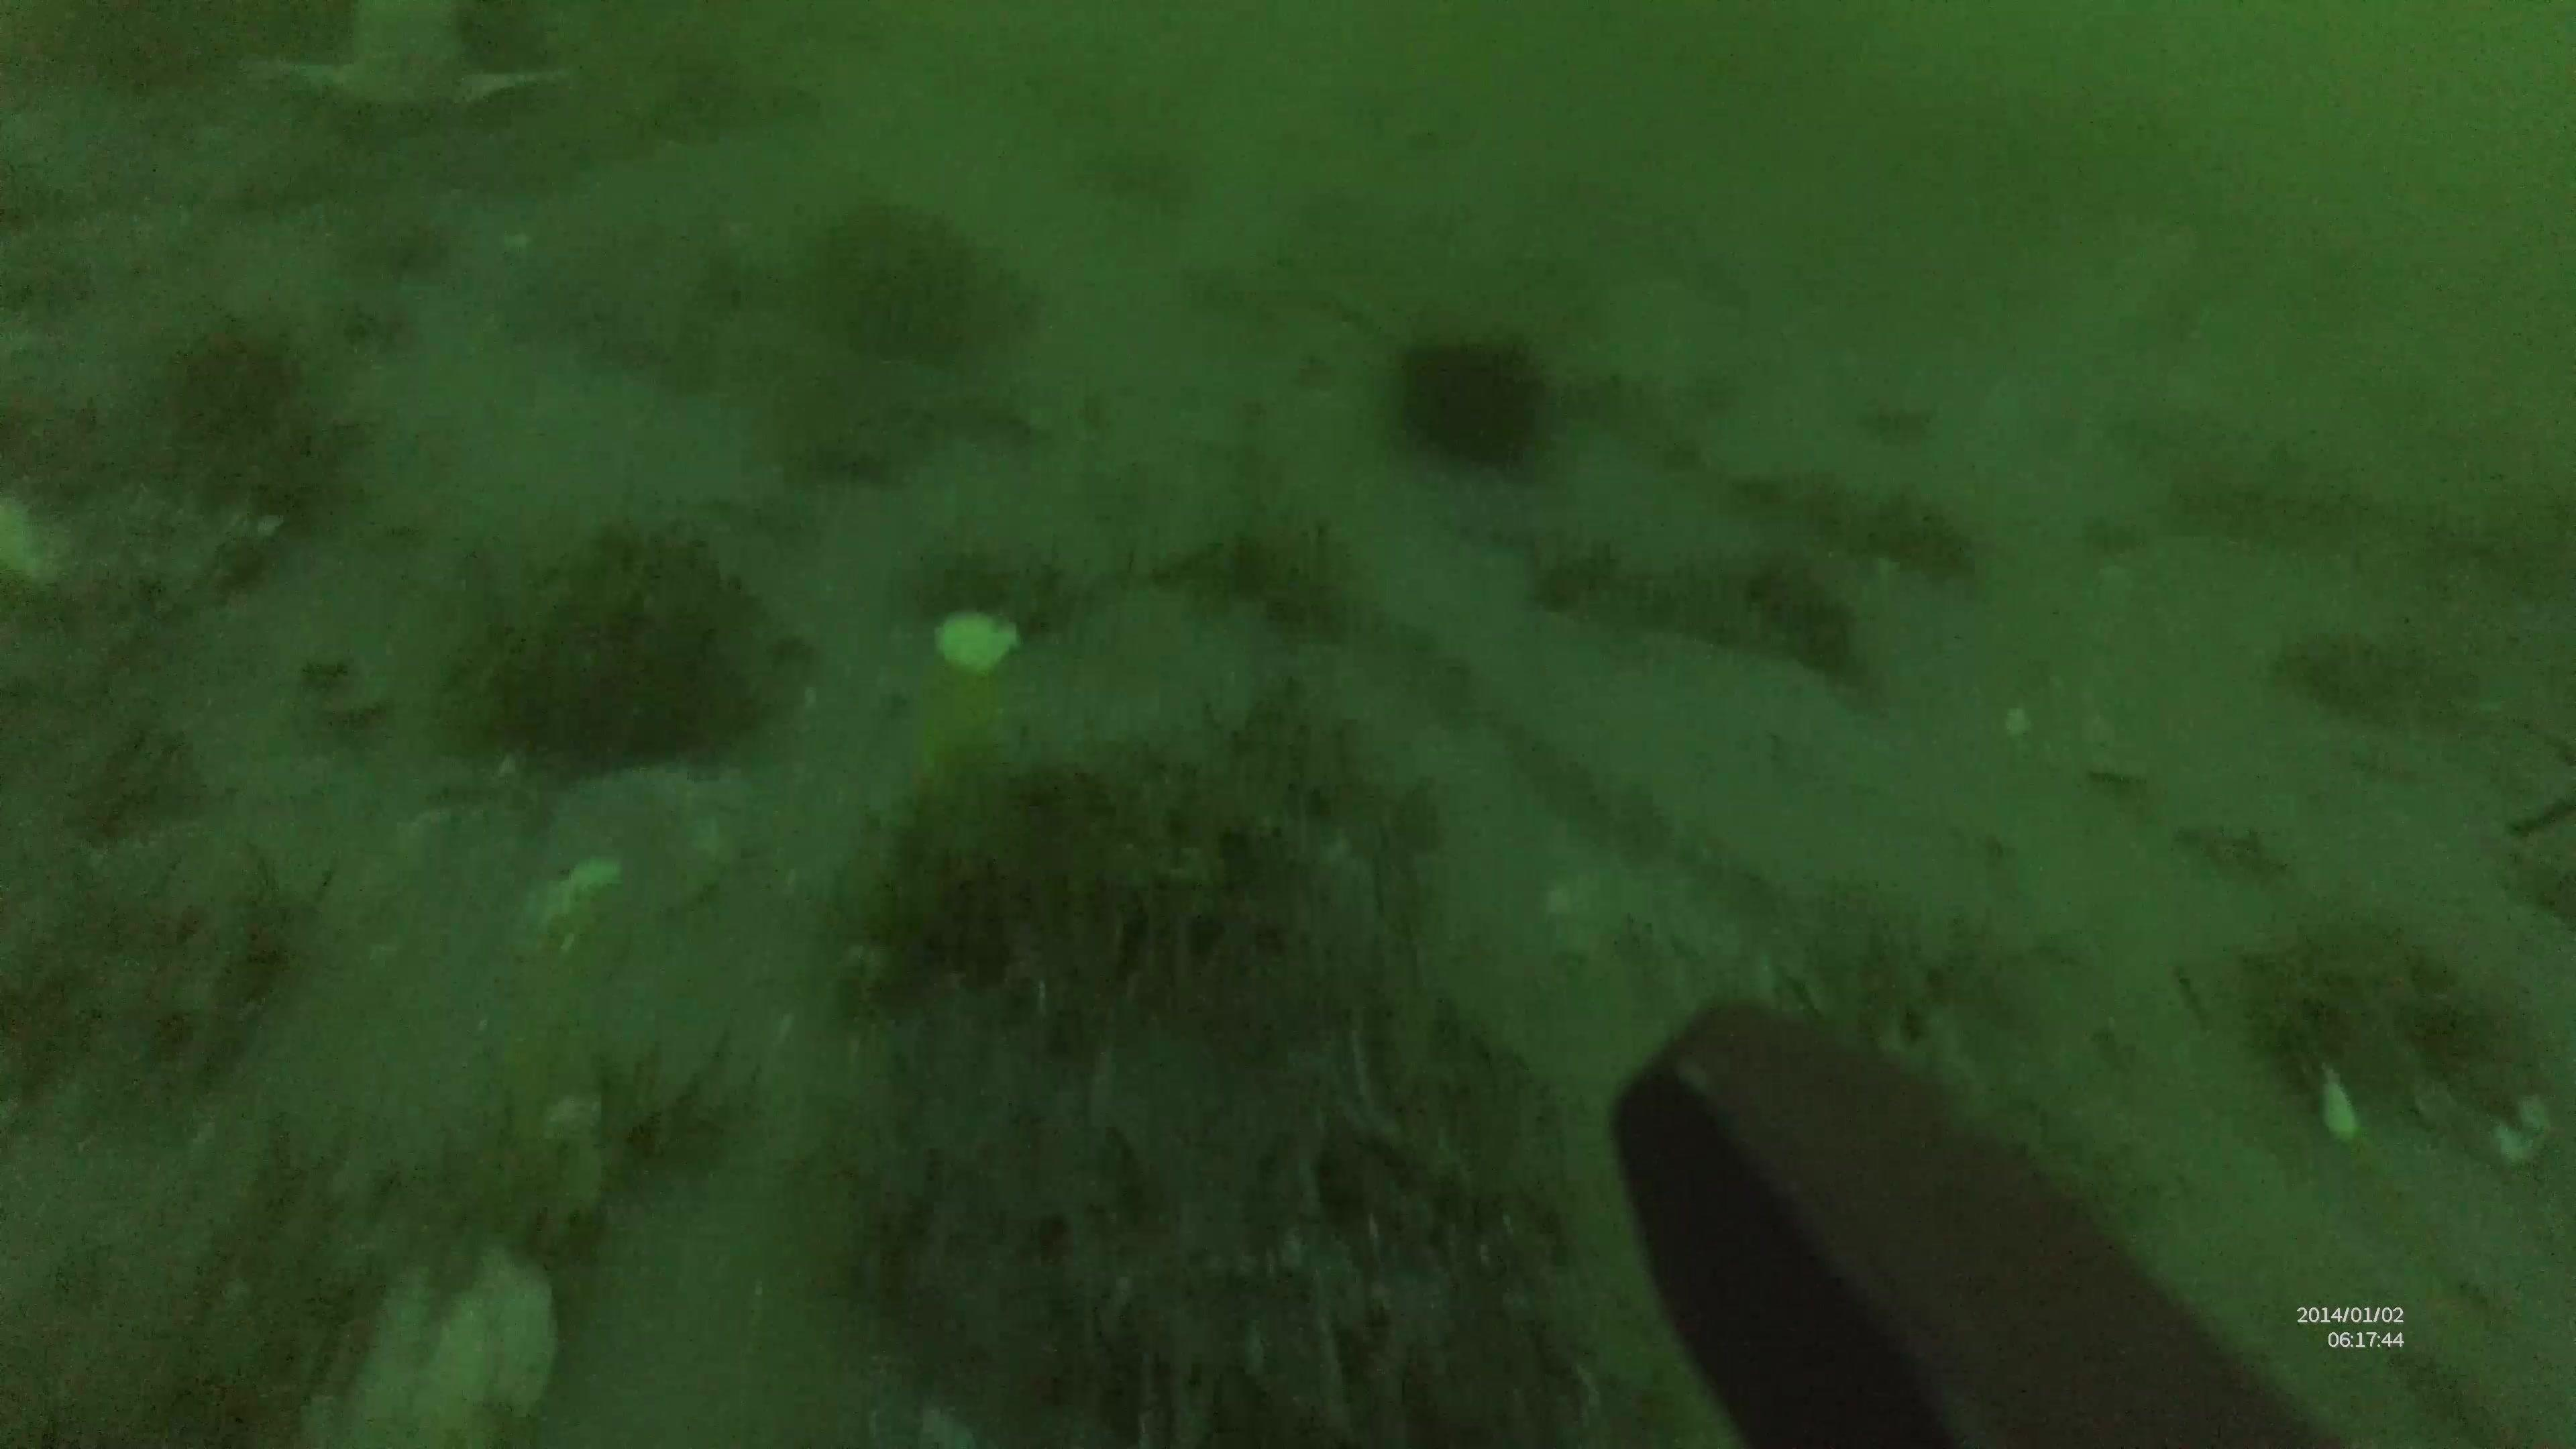echinus: (1396, 331, 1548, 464)
